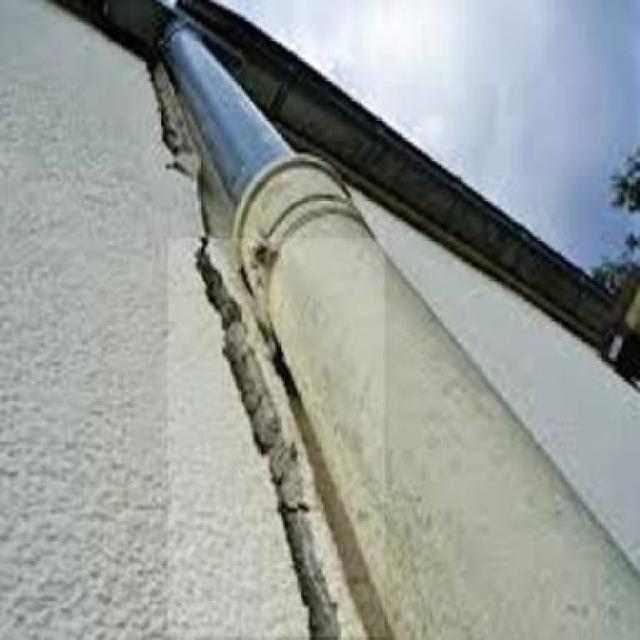Crack: (172, 220, 356, 640)
